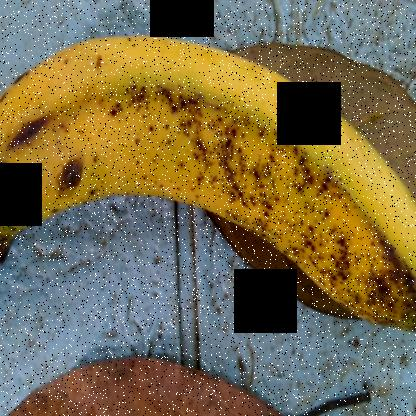ripe: (0, 20, 414, 351)
